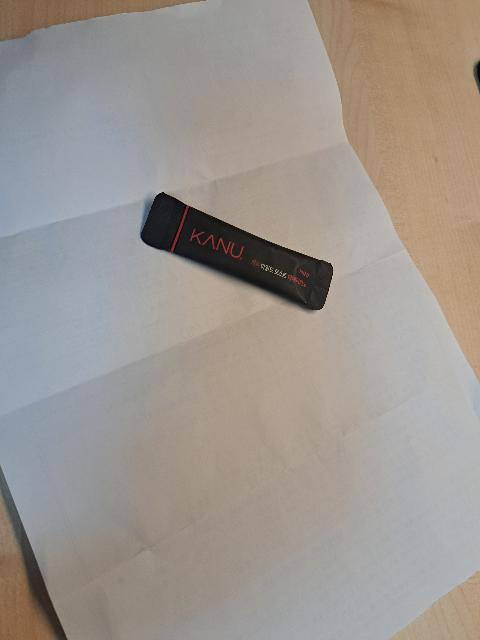KANU: (136, 183, 340, 333)
